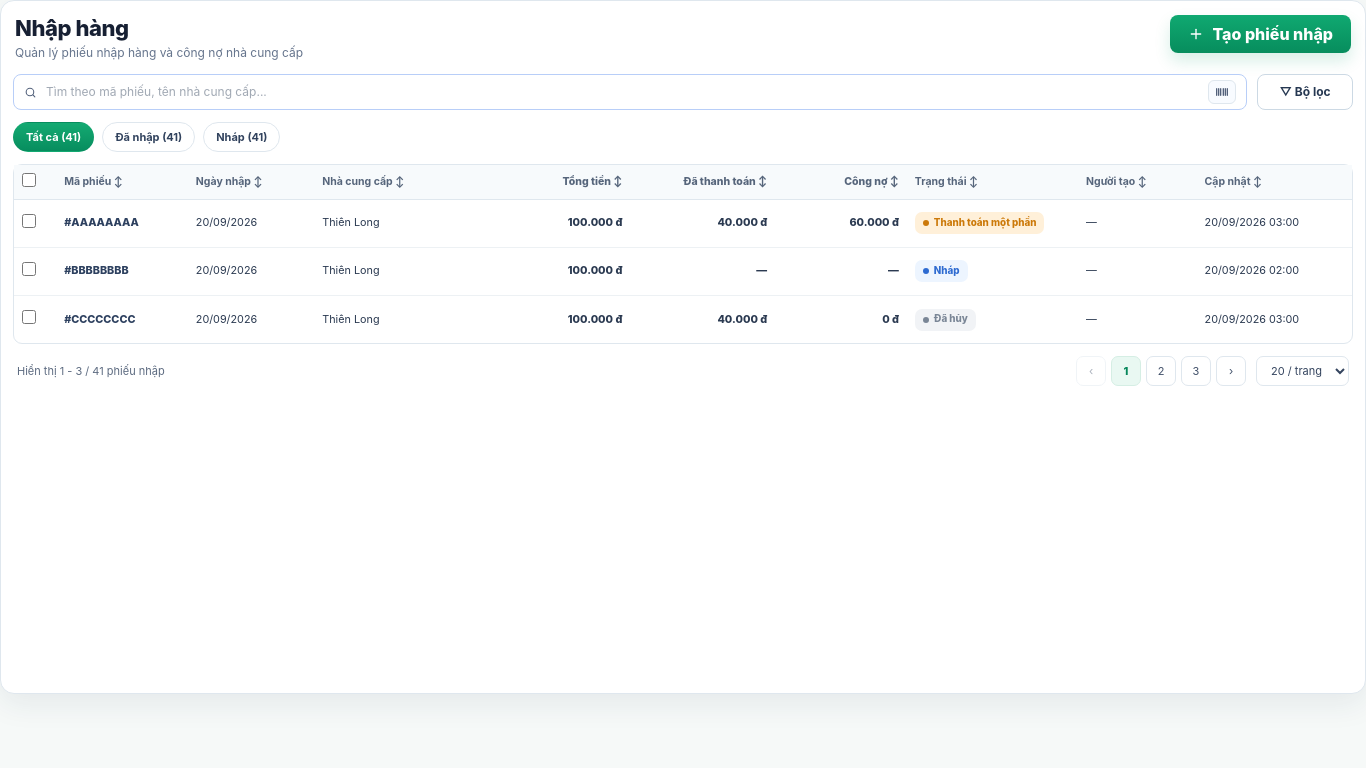
it: PurchaseListView with live data › filters by the supported lifecycle status and keeps it while paging
The width and height of the screenshot is (1366, 768).
Click the button "Đã nhập (41)": click(149, 137) [102,122,195,152]
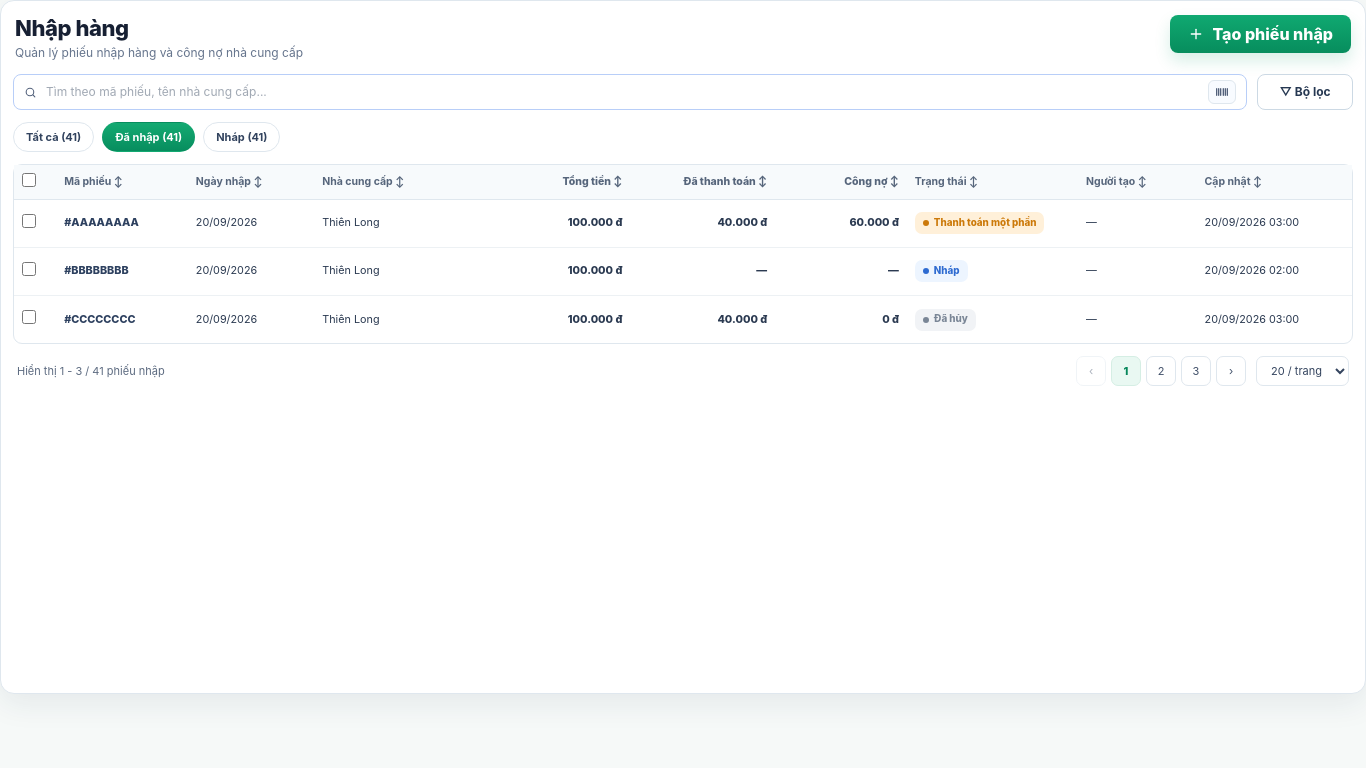
Click the button named "Trang sau": click(1231, 371) [1216,356,1246,386]
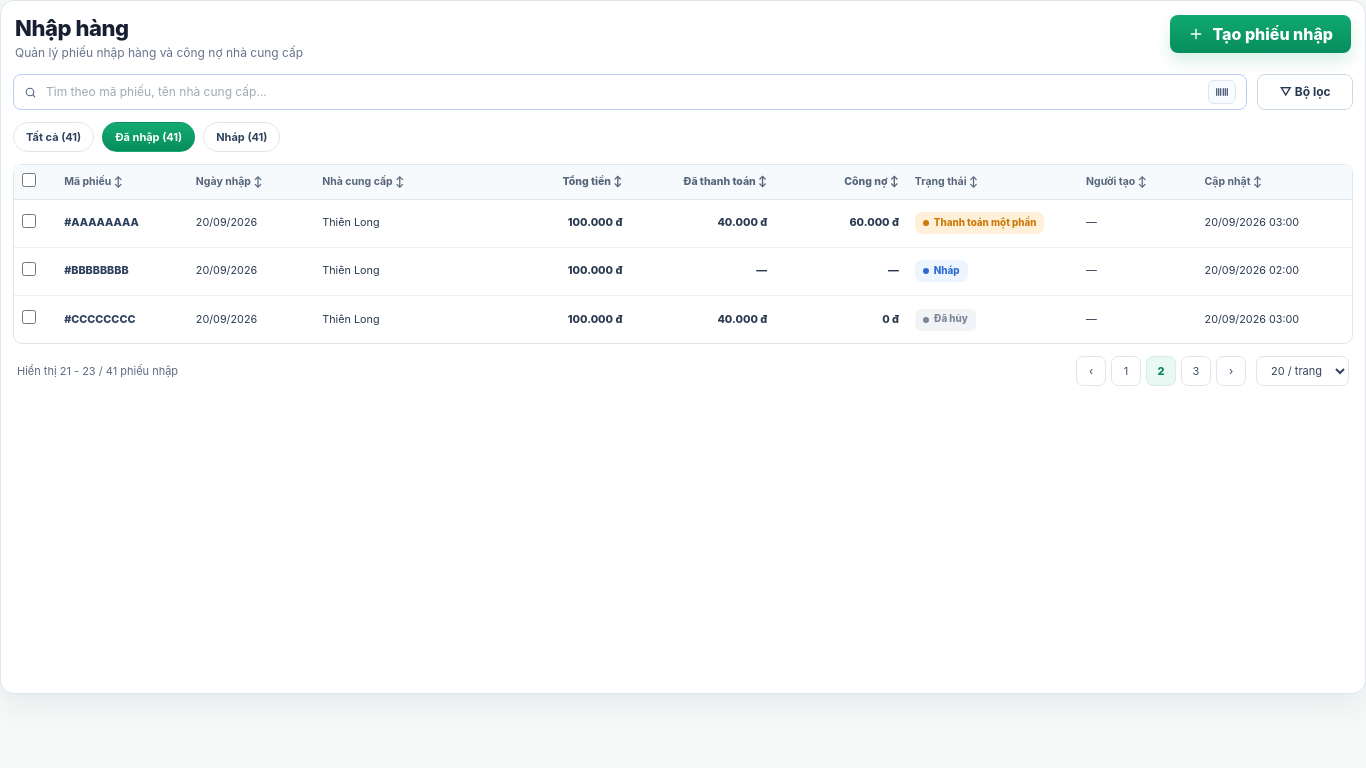
Expected: the text "Hiển thị 21 - 23 / 41 phiếu nhập" is shown, [17,363,178,380]
